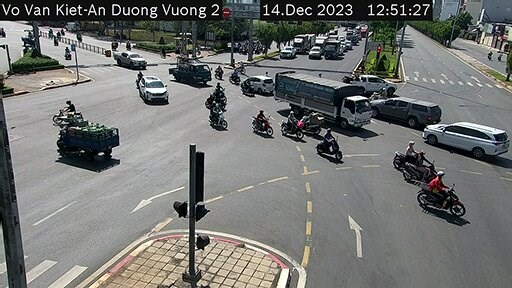car: (423, 110, 510, 162), (376, 89, 435, 131), (346, 66, 393, 97), (136, 71, 168, 105), (115, 49, 149, 76), (244, 73, 273, 103)
motorbike: (428, 168, 466, 219), (408, 144, 435, 186), (316, 127, 345, 166), (251, 106, 280, 142), (50, 95, 82, 124), (280, 110, 303, 146), (202, 101, 230, 130), (397, 138, 422, 166), (206, 83, 224, 109)
truck: (259, 63, 382, 127), (167, 54, 218, 90)
